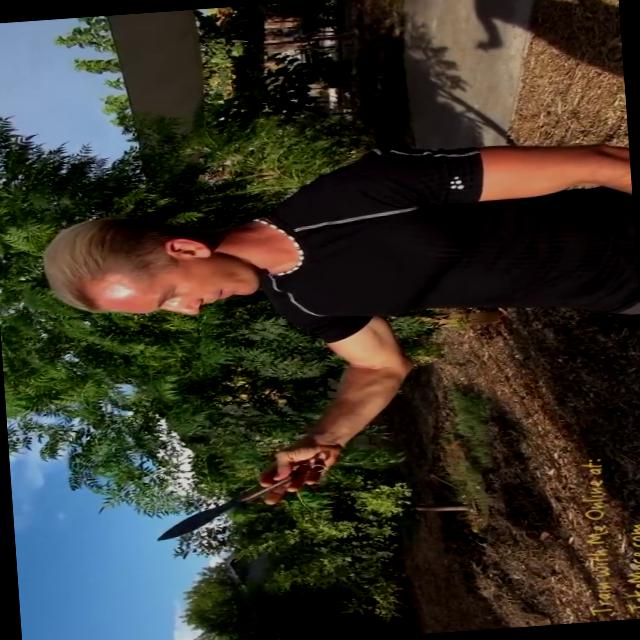knife: (138, 452, 334, 544)
